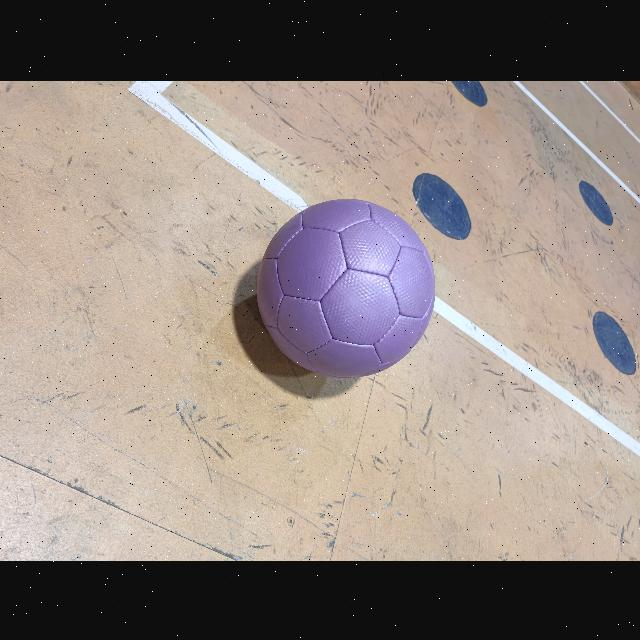P: (257, 198, 435, 376)
